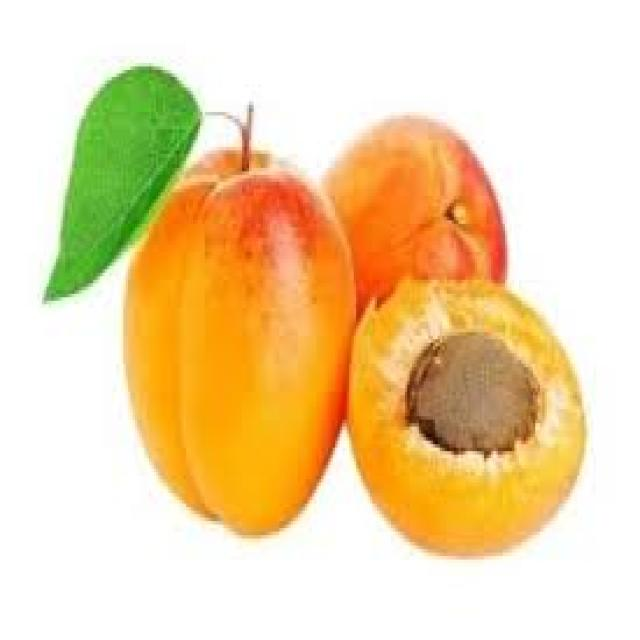Cekirdek: (405, 332, 538, 451)
Kayisi: (349, 280, 584, 549)
Yaprak: (44, 66, 200, 297)
